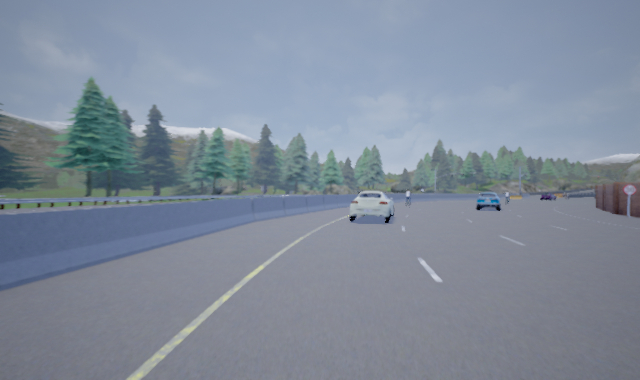bike: (404, 187, 412, 208), (504, 190, 511, 206)
traffic_sign: (622, 184, 638, 196)
vehicle: (347, 190, 395, 223), (474, 191, 500, 211), (540, 192, 557, 202)
